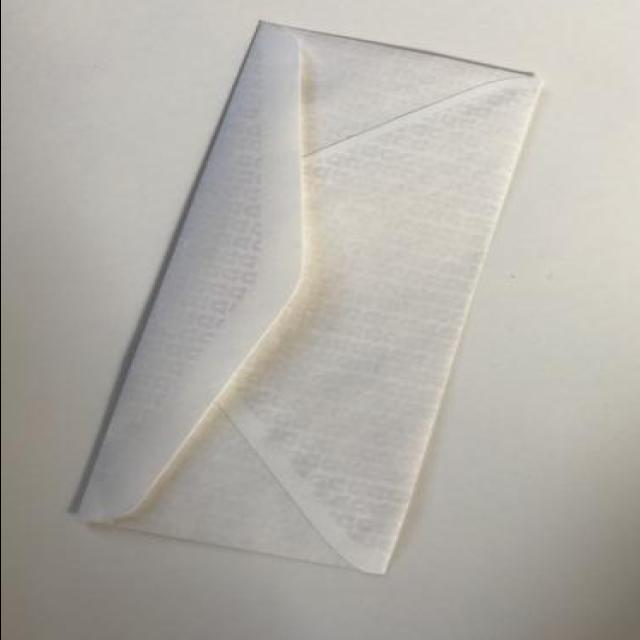kertas: (70, 21, 544, 576)
